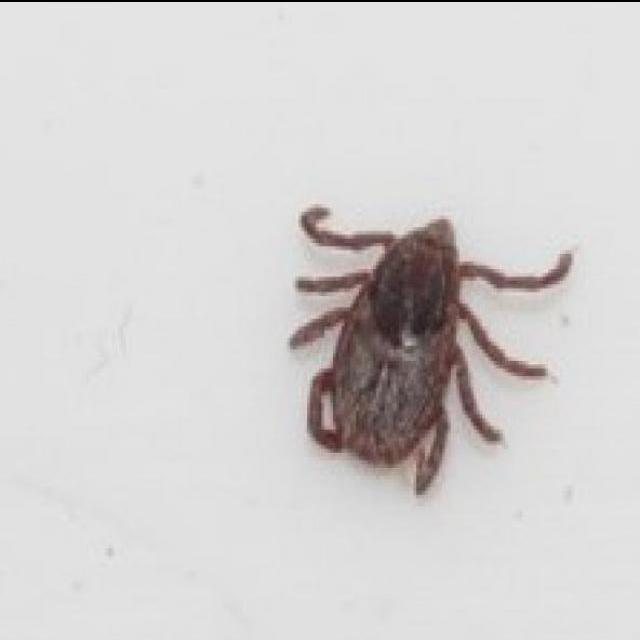Rhipicephalus Sanguineus-F: (287, 206, 574, 500)
